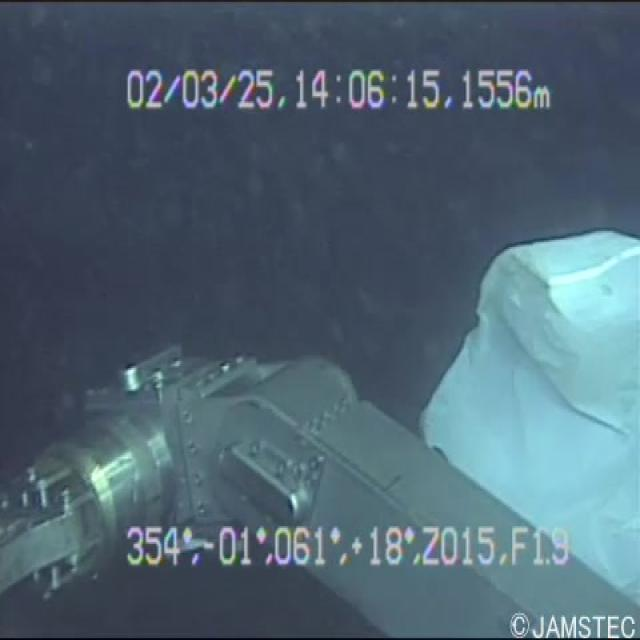plastic: (393, 189, 639, 599)
